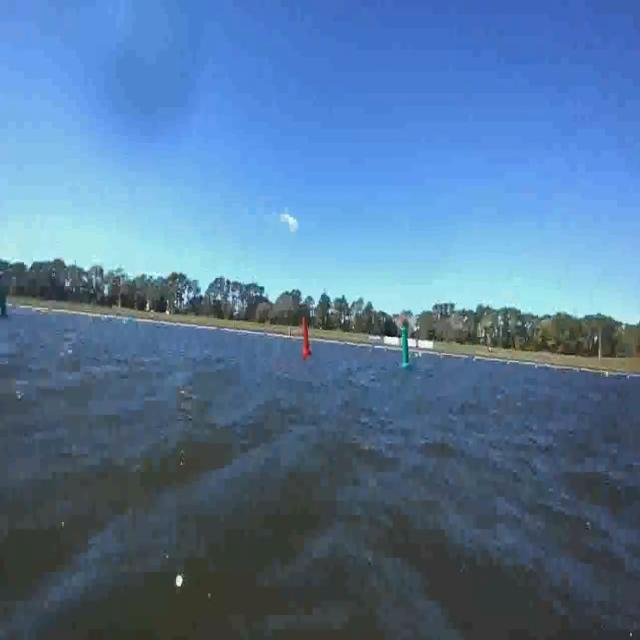green-column-buoy: (401, 327, 413, 370), (0, 282, 11, 320)
red-column-buoy: (302, 317, 313, 356)
